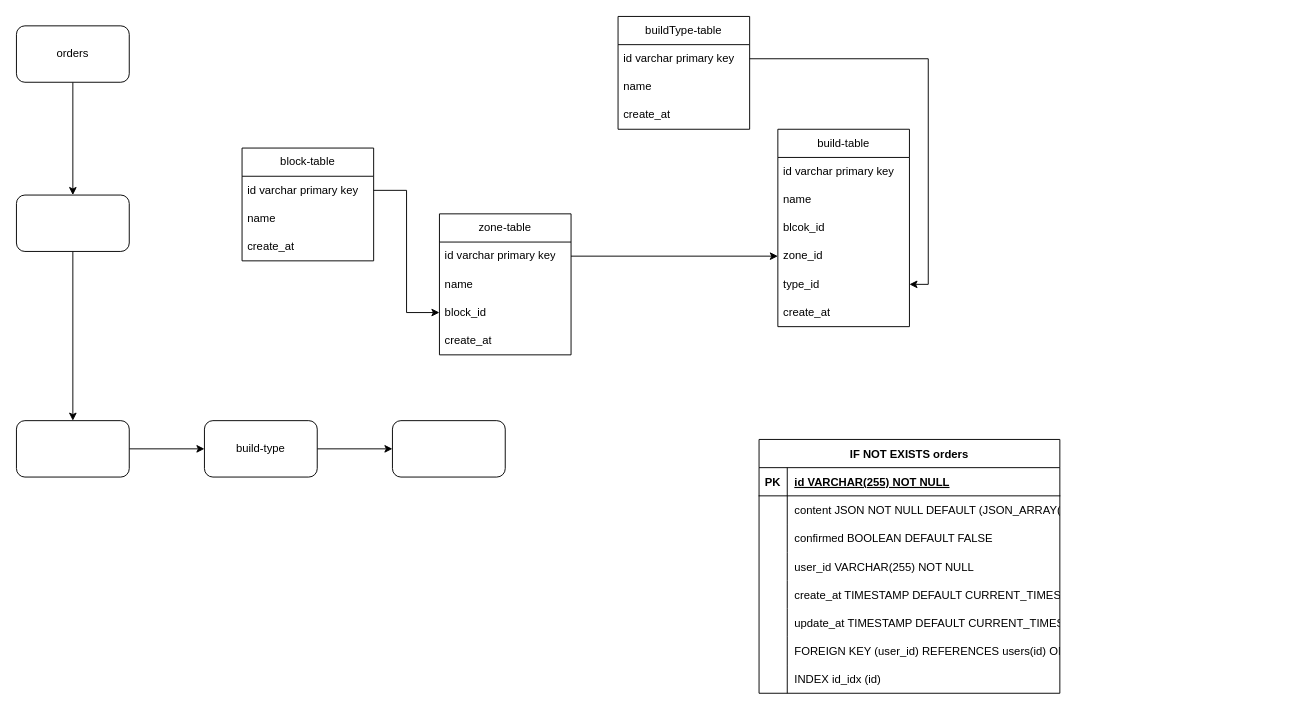
The diagram is 1308 pixels wide and 710 high, and some of its shapes have lost their labels. Each missing label, with the centre of its shape:
blocks: (x=72, y=222)
builds: (x=448, y=448)
zone: (x=72, y=448)
